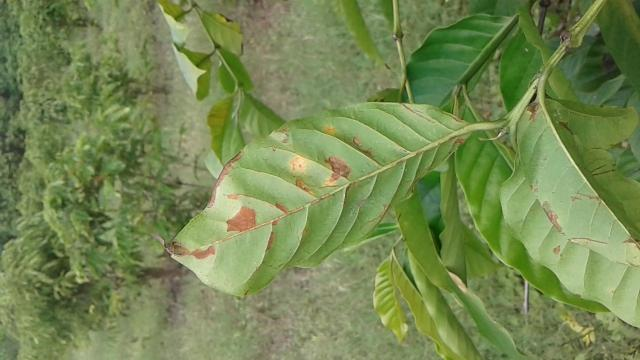rust_level_2: (170, 102, 478, 296)
